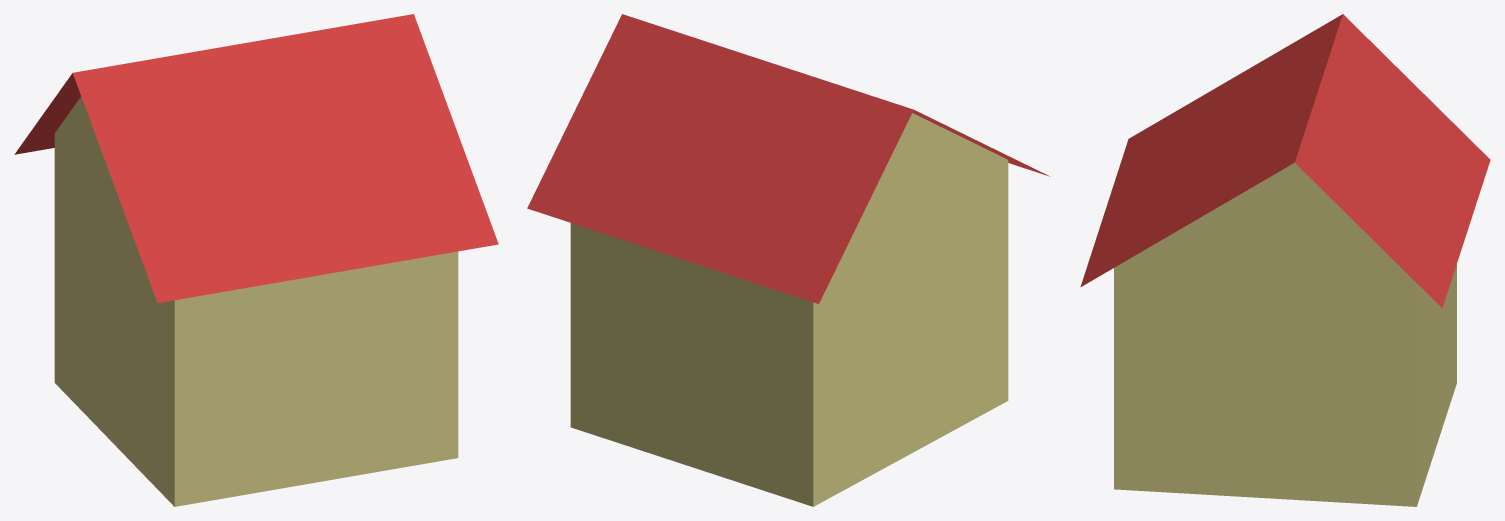
The picture shows the model from 3 angles, left to right: view 1: azimuth 30°, elevation 25°; view 2: azimuth 150°, elevation 25°; view 3: azimuth 270°, elevation 25°; orthographic projection. The views are drawn at different scales.
Size of the model in its own units: 13.4 by 13.7 by 12.89.
